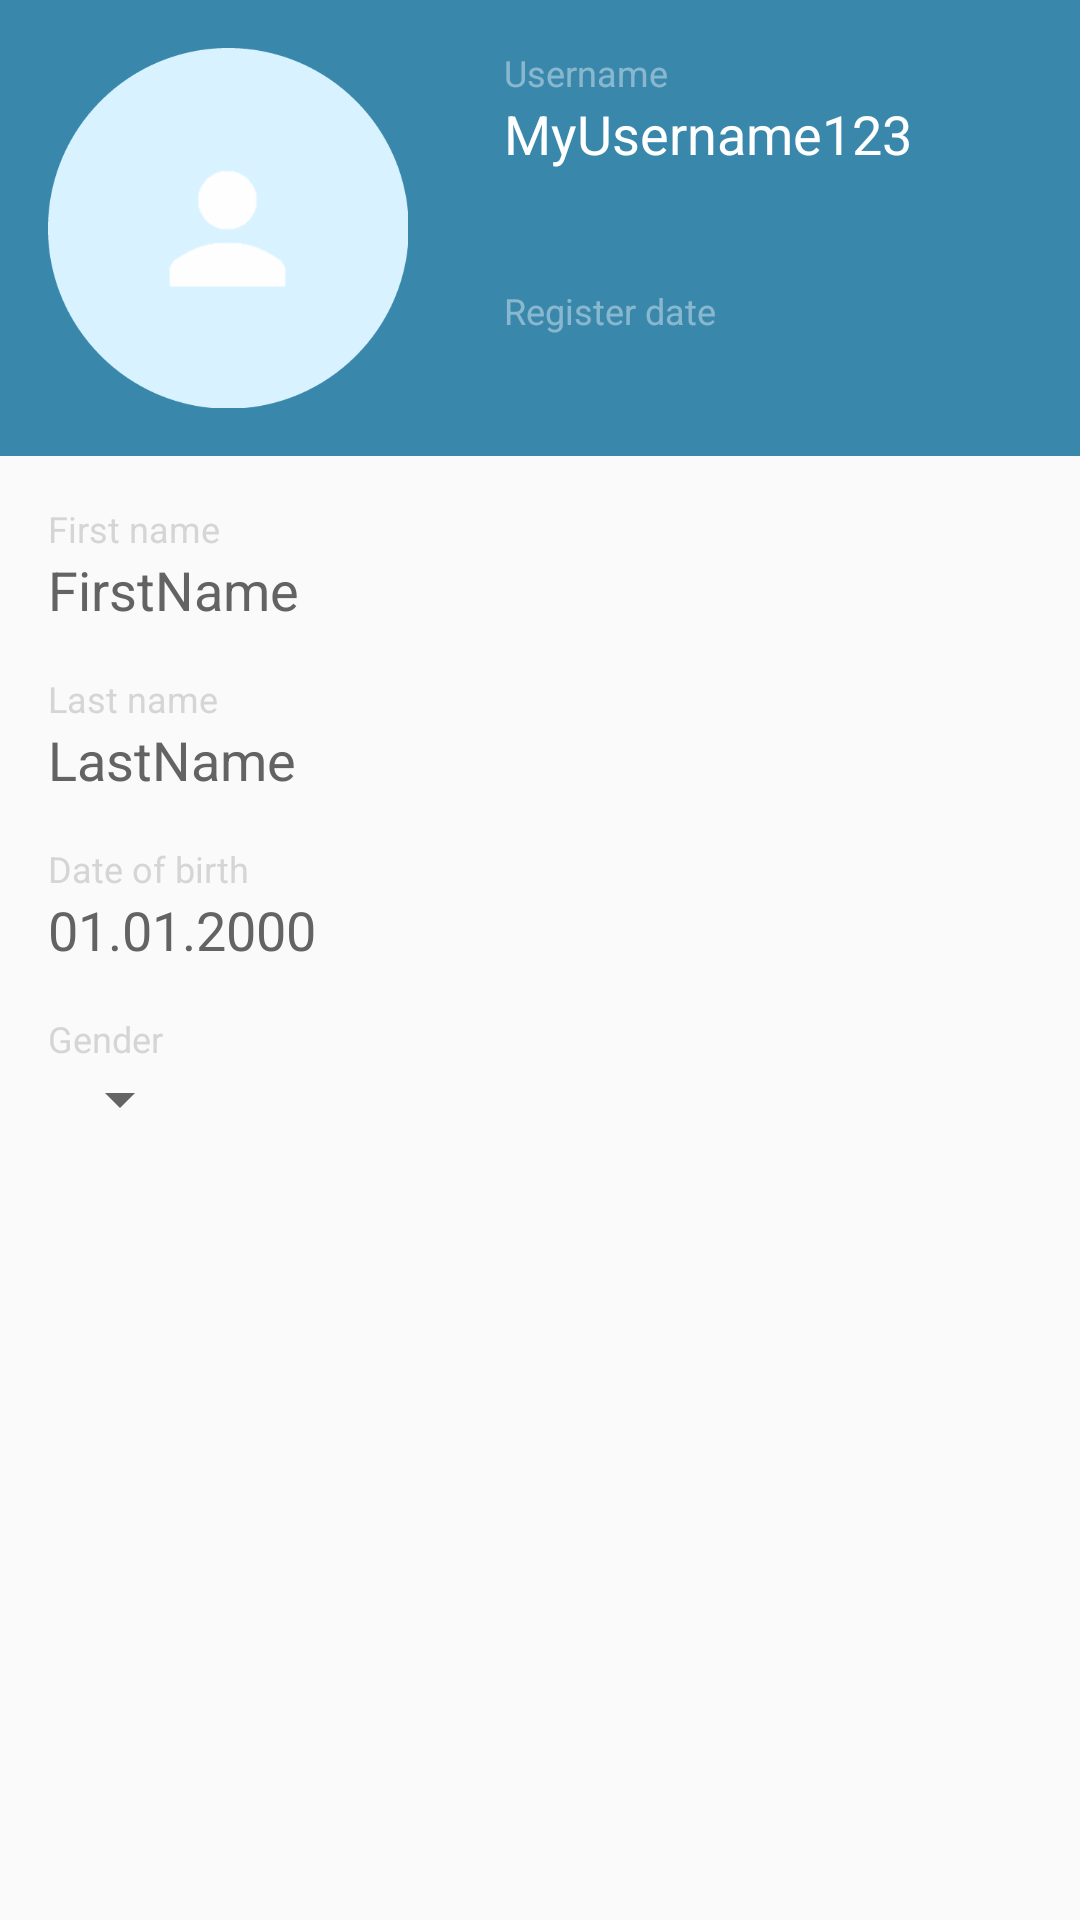

Screen size 1080px x 1920px. Icon name, then its center in pixels as point (x, y):
profile: point (228, 228)
